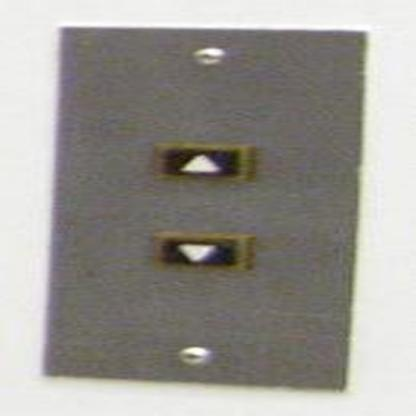down: (143, 229, 258, 275)
up: (146, 140, 254, 184)
